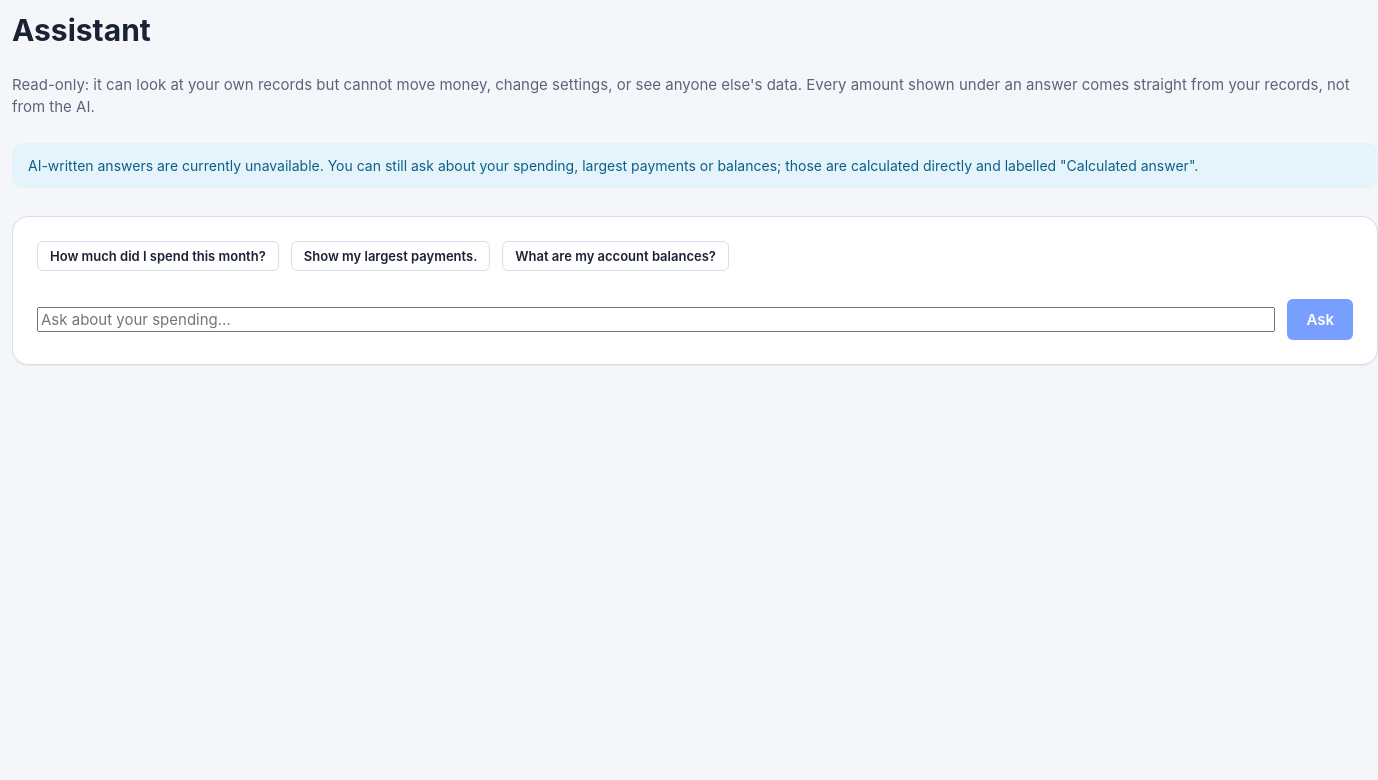
AiAssistantPage › labels a deterministic answer "Calculated answer", never as AI, and explains why
Type "How much did I spend?" into the field named "Ask a question". click: {"x": 656, "y": 319}
box: top-left (37, 306), bottom-right (1275, 332)
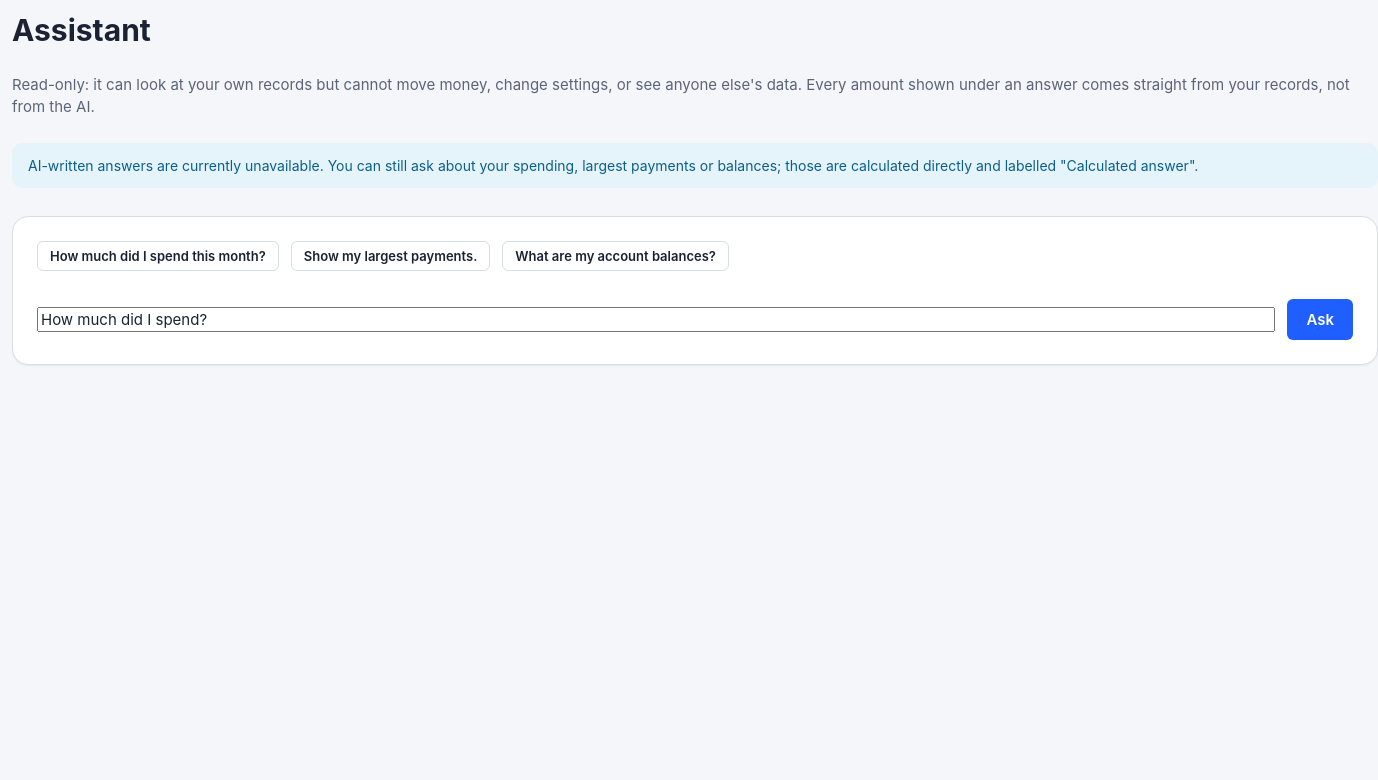
Click the button "Ask". click: {"x": 1320, "y": 319}
box: top-left (1287, 298), bottom-right (1353, 340)
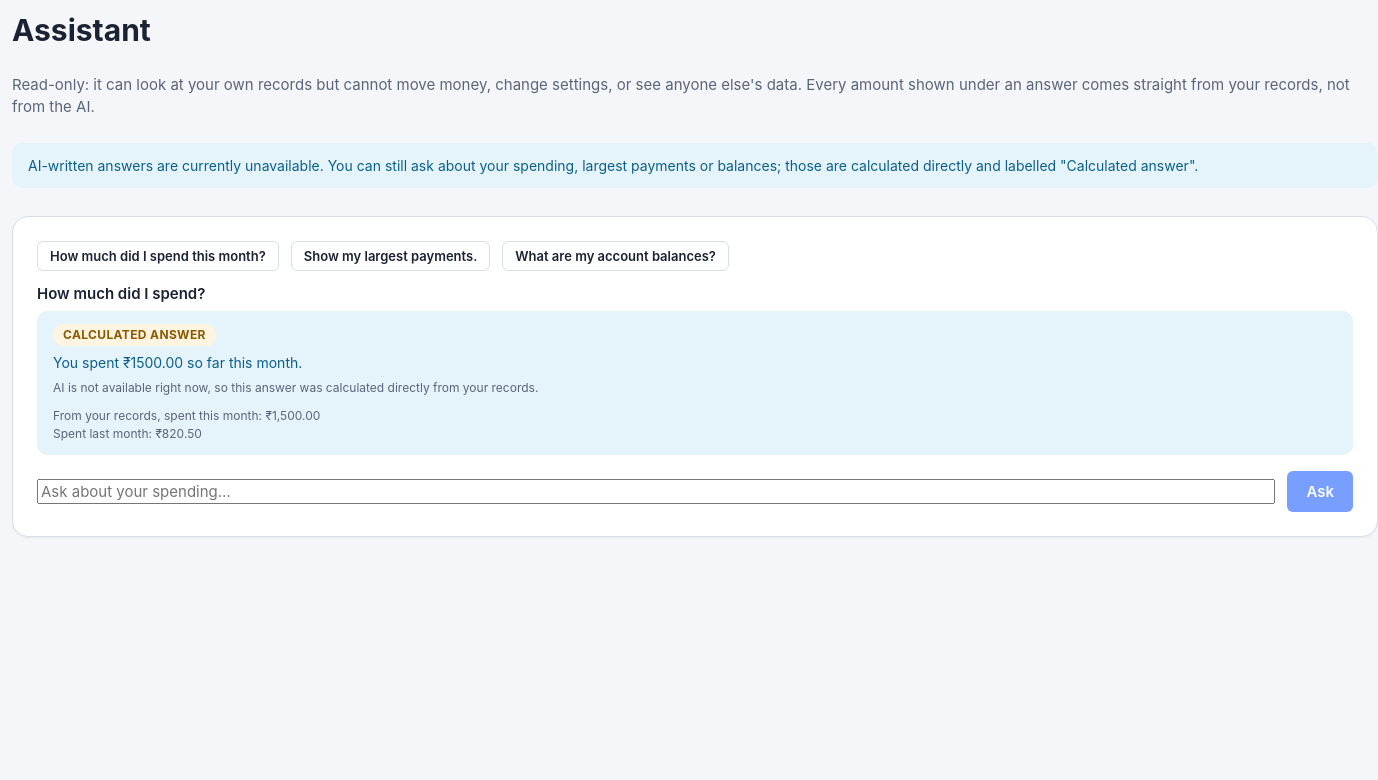
Expected: the text "How much did I spend?" is shown, top-left (37, 284), bottom-right (205, 302)
Expected: the text "Calculated answer" is shown, top-left (53, 324), bottom-right (216, 346)
Expected: the text "AI is not available right now" is shown, top-left (53, 380), bottom-right (538, 395)
